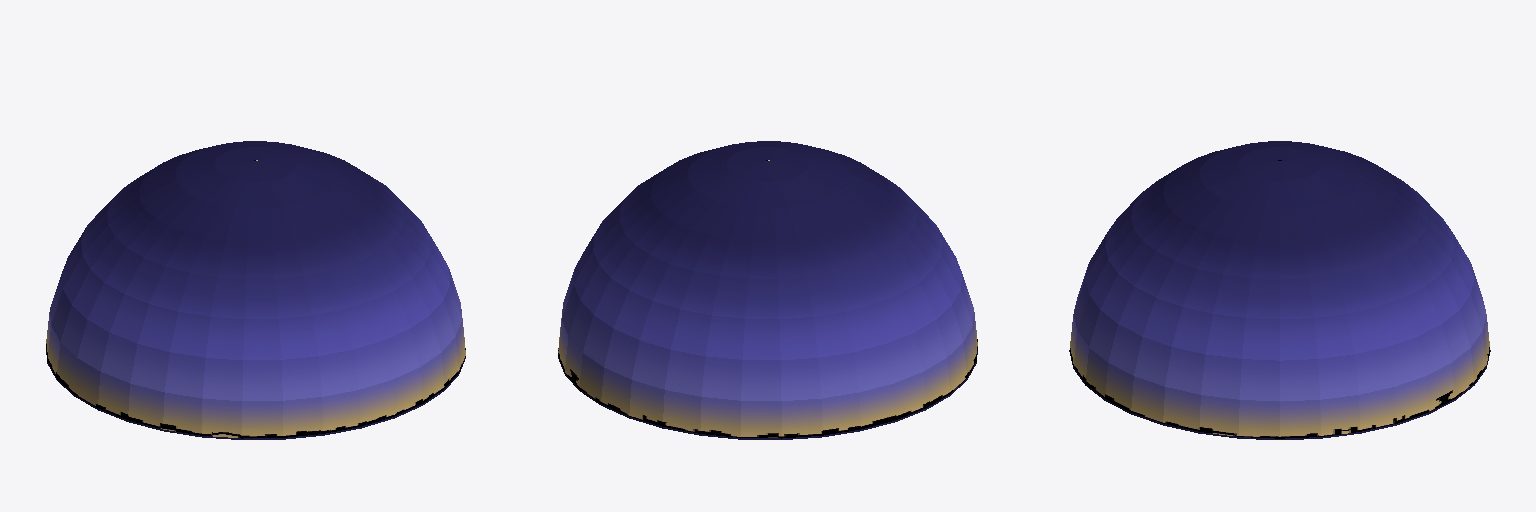
The picture shows the model from 3 angles: view 1: azimuth 30°, elevation 25°; view 2: azimuth 150°, elevation 25°; view 3: azimuth 270°, elevation 25°; orthographic projection.
Visible parts, largest first — view 1: 球; view 2: 球; view 3: 球.
Part boxes in pixels (bbox=[...]): 球: bbox=[46, 141, 465, 439]; 球: bbox=[558, 141, 977, 439]; 球: bbox=[1069, 141, 1490, 439].
Size of the model in its own units: 1800 by 900 by 1800.
Materials: 1 (1 with a texture image).